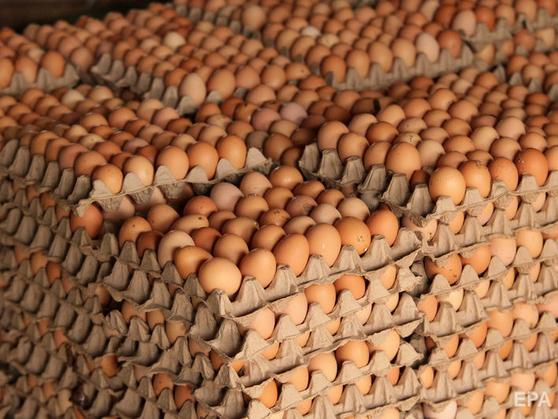egg: (427, 166, 468, 205), (273, 231, 307, 278), (199, 258, 242, 295), (384, 141, 419, 180), (156, 146, 192, 179)
